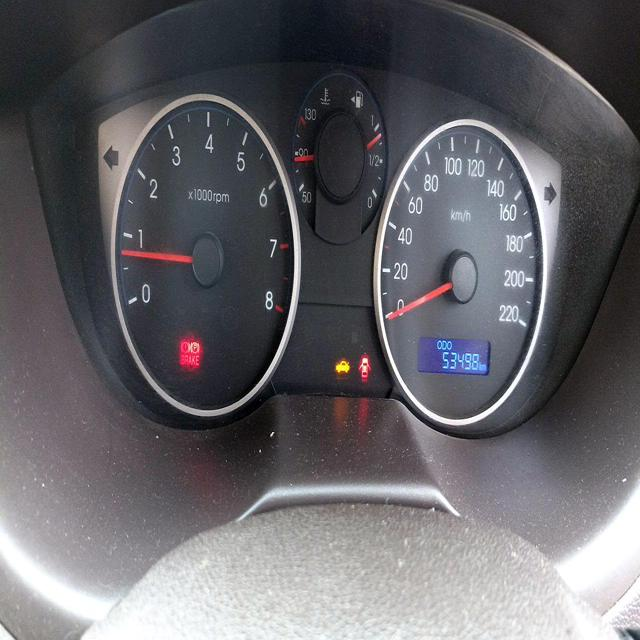odometer: (441, 349, 479, 374)
